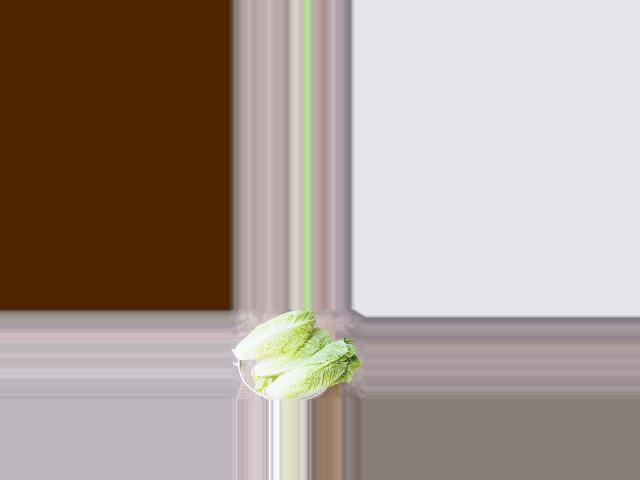lettuce: (255, 337, 356, 400)
